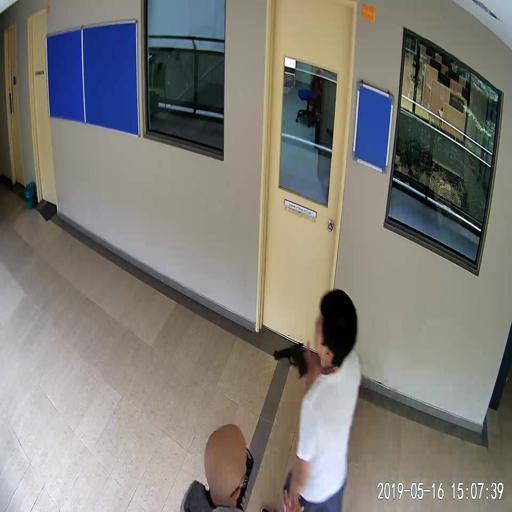pistol: (273, 341, 309, 377)
